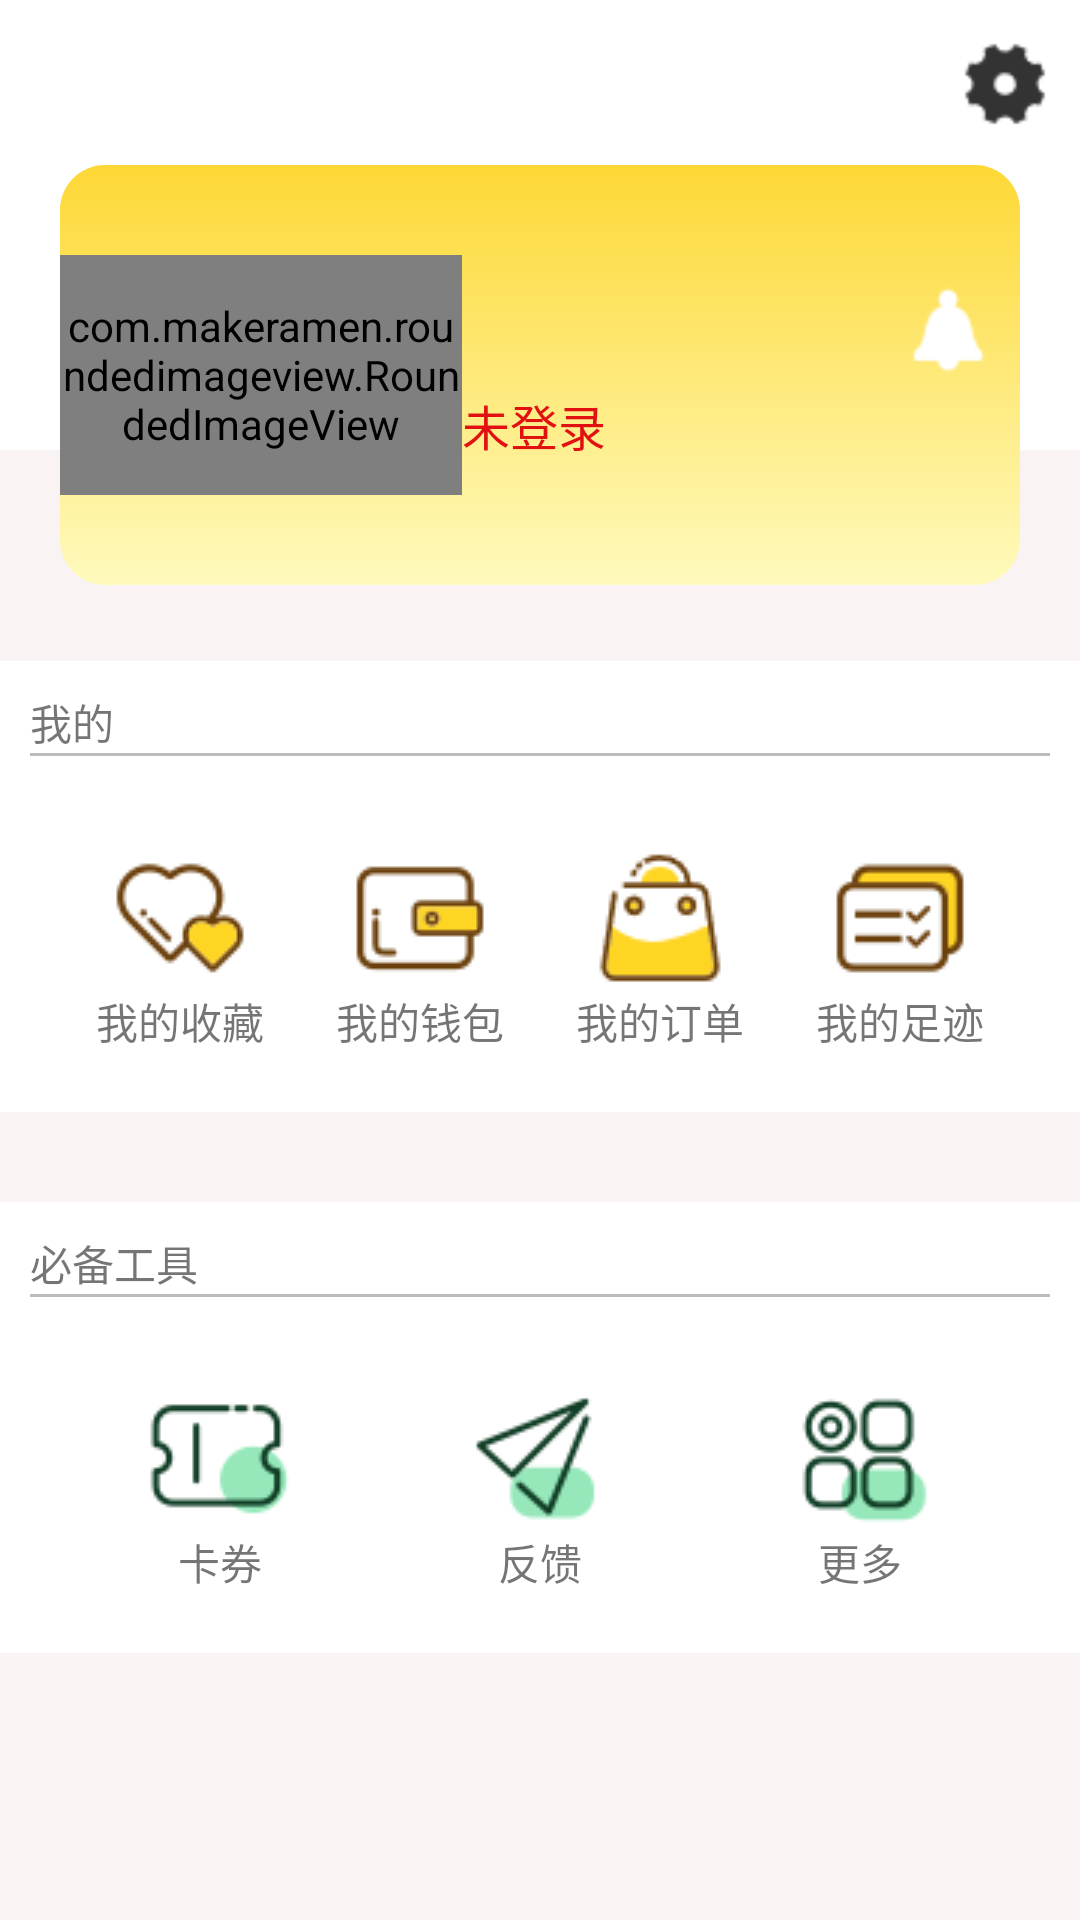

Icons on this 1080px x 1920px Android screen, each with the point to tap as (x=x, y=y):
message: (x=948, y=330)
setting: (x=1005, y=84)
